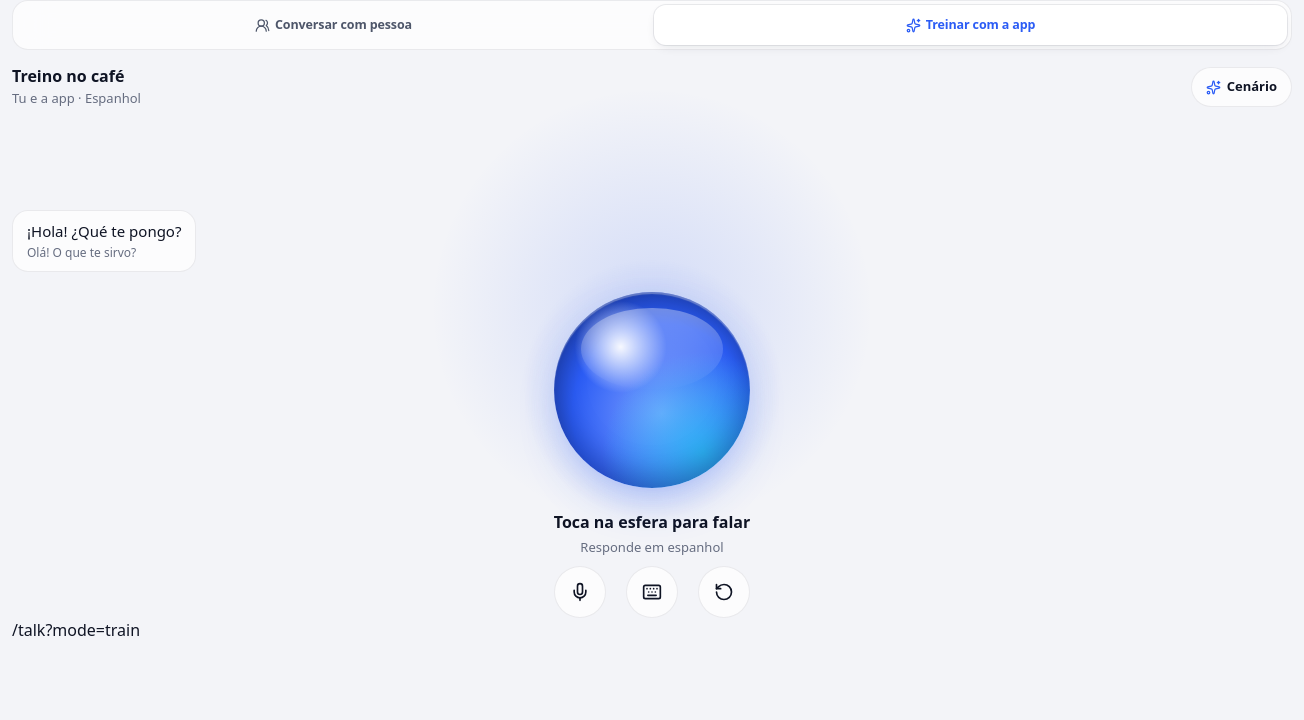
Scenario: TalkPage — Treinar com a app › sphere tap goes to the conversation; when muted it shows a toast instead
Expected: the text "¡Hola! ¿Qué te pongo?" is shown, [27,221,182,242]
Expected: the text "Responde em espanhol" is shown, [580,538,724,558]
Click the button named "Falar com a app". click: (652, 390)
box: [554,292,750,488]
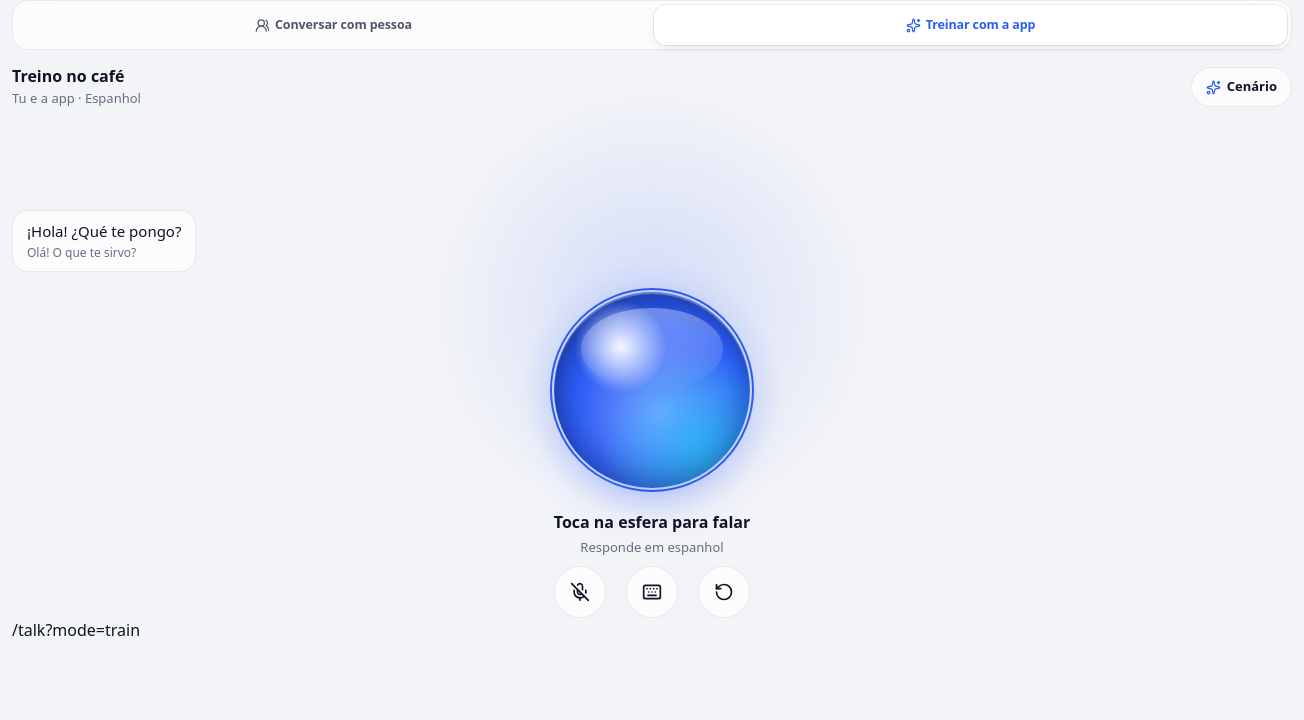
Now the button named "Desativar microfone" is pressed, box [554,566,606,618]
Click the button named "Falar com a app". click: (652, 390)
box: [554,292,750,488]
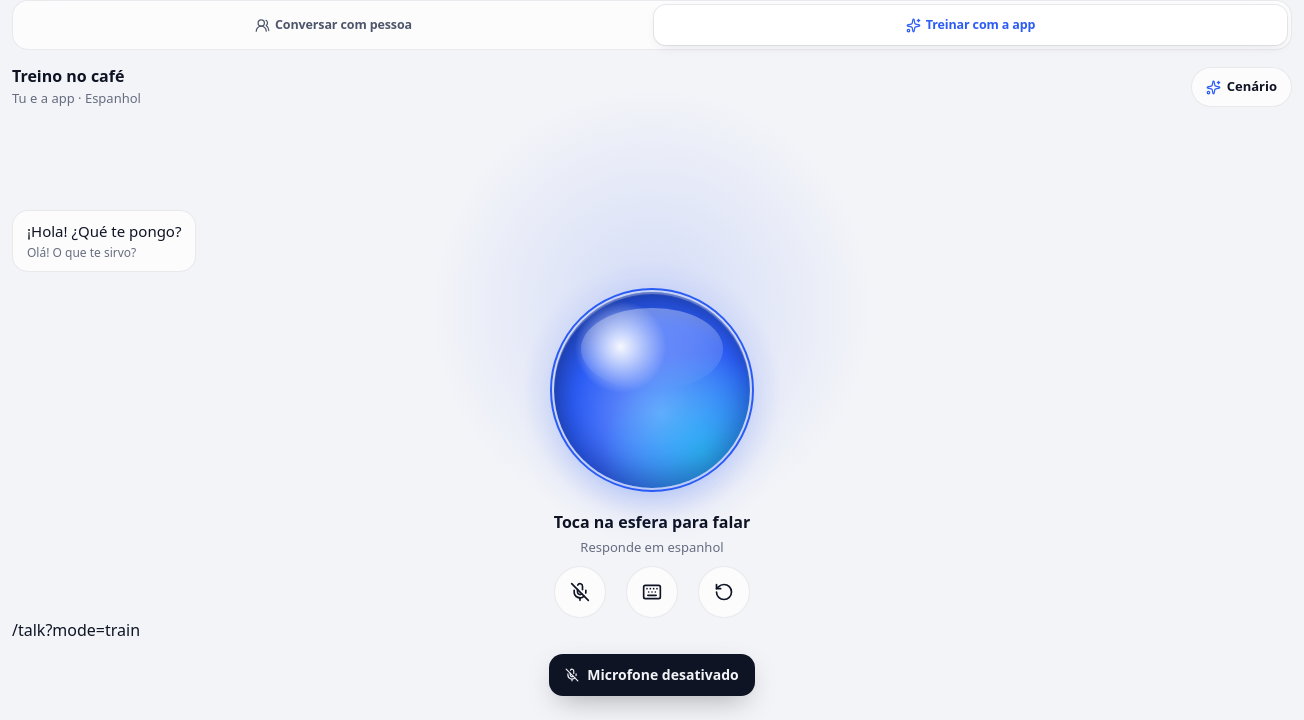
Now the text "Microfone desativado" is shown, box [587,665,739,685]
